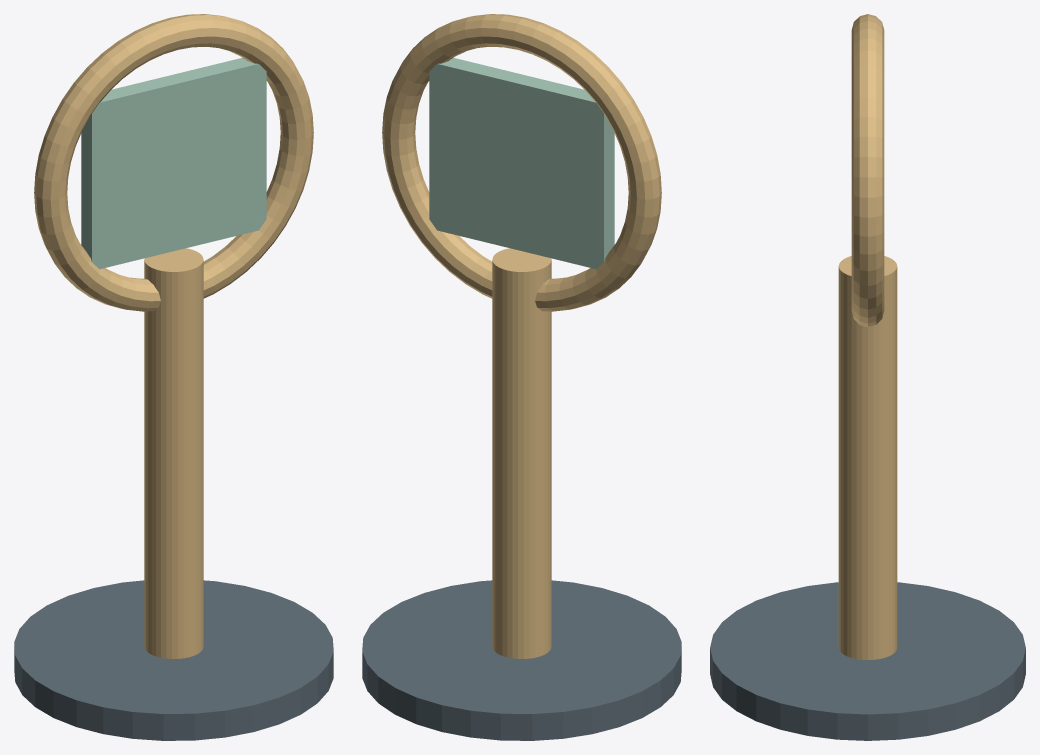
File: wayfinding-sign.glb
The picture shows the model from 3 angles, left to right: view 1: azimuth 30°, elevation 25°; view 2: azimuth 150°, elevation 25°; view 3: azimuth 270°, elevation 25°; orthographic projection.
Visible parts, largest first — view 1: wayfinding-sign; view 2: wayfinding-sign; view 3: wayfinding-sign.
Part boxes in pixels (bbox=[...]): wayfinding-sign: bbox=[14, 14, 333, 740]; wayfinding-sign: bbox=[362, 14, 681, 740]; wayfinding-sign: bbox=[710, 14, 1025, 740].
Bounding box in the file's own units: 0.54 × 1.22 × 0.54.
